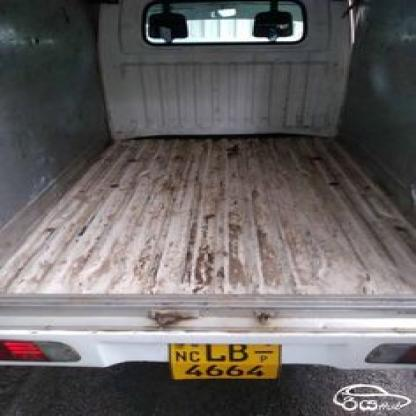Lorry back: (0, 0, 416, 385)
number plate: (166, 340, 275, 383)
